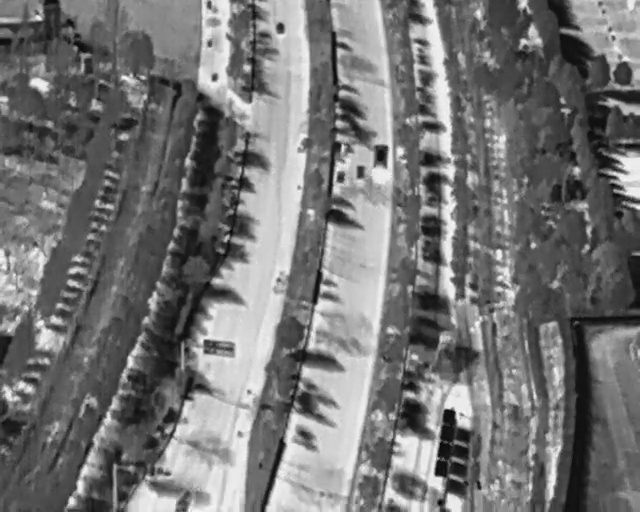Car: (356, 164, 365, 181), (276, 20, 285, 35), (337, 170, 345, 183)
OtherVehicle: (374, 144, 388, 167)
